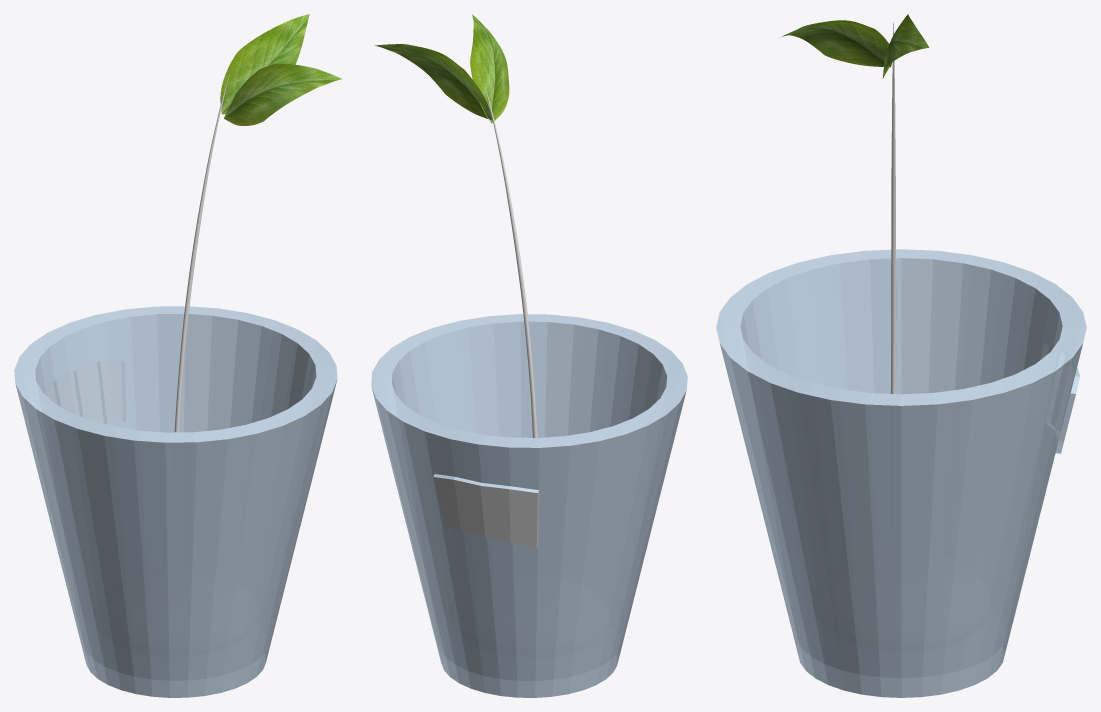
File: planta2.glb
3 views of the same model, side by side, from view 1: azimuth 30°, elevation 25°; view 2: azimuth 150°, elevation 25°; view 3: azimuth 270°, elevation 25° (orthographic). The views are drawn at different scales.
Visible parts, largest first — view 1: Cilindro, new_plant_1:planarTrimmedSurface1.001, new_plant_1:planarTrimmedSurface1, new_plant_1:pCube1; view 2: Cilindro, new_plant_1:planarTrimmedSurface1, new_plant_1:planarTrimmedSurface1.001, new_plant_1:pCube1; view 3: Cilindro, new_plant_1:planarTrimmedSurface1.001, new_plant_1:pCube1, new_plant_1:planarTrimmedSurface1.
Part boxes in pixels (x1,y1,x2,y2): Cilindro: (14, 306, 337, 697); new_plant_1:planarTrimmedSurface1.001: (224, 63, 341, 125); new_plant_1:planarTrimmedSurface1: (220, 14, 309, 114); new_plant_1:pCube1: (174, 72, 229, 432); Cilindro: (371, 314, 687, 697); new_plant_1:planarTrimmedSurface1: (374, 44, 492, 120); new_plant_1:planarTrimmedSurface1.001: (470, 14, 509, 123); new_plant_1:pCube1: (483, 79, 537, 437); Cilindro: (716, 249, 1086, 697); new_plant_1:planarTrimmedSurface1.001: (779, 20, 892, 67); new_plant_1:pCube1: (890, 22, 896, 393); new_plant_1:planarTrimmedSurface1: (882, 14, 929, 78).
Size of the model in its own units: 2.28 by 4.59 by 2.23.
Materials: 6 (2 with a texture image).
